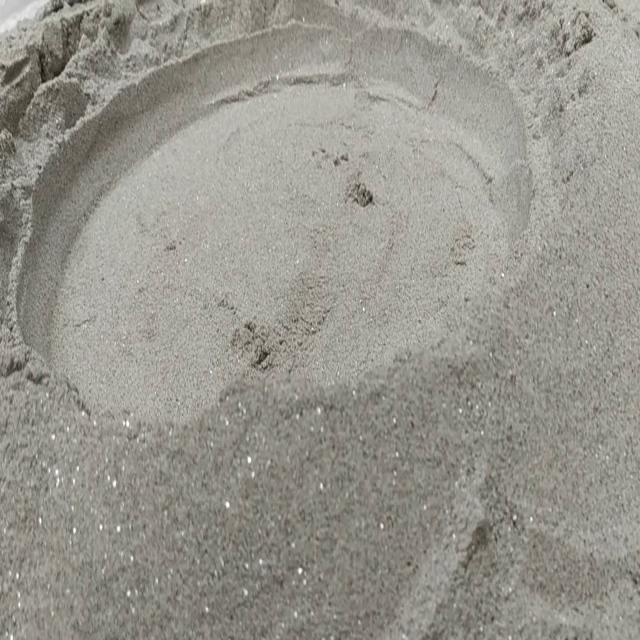C40: (2, 0, 526, 392)
